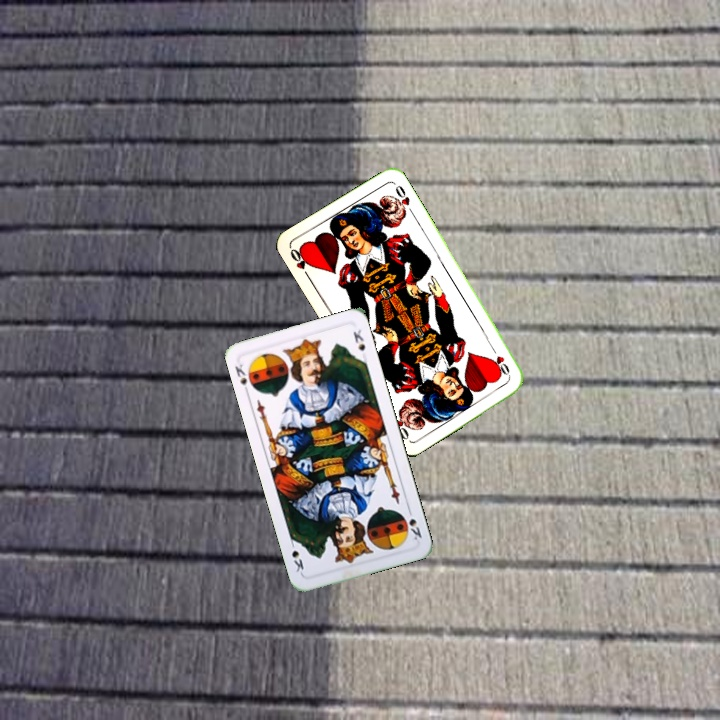HO: (286, 244, 313, 281), (487, 342, 513, 379)
SK: (399, 504, 424, 543), (231, 360, 252, 397)
